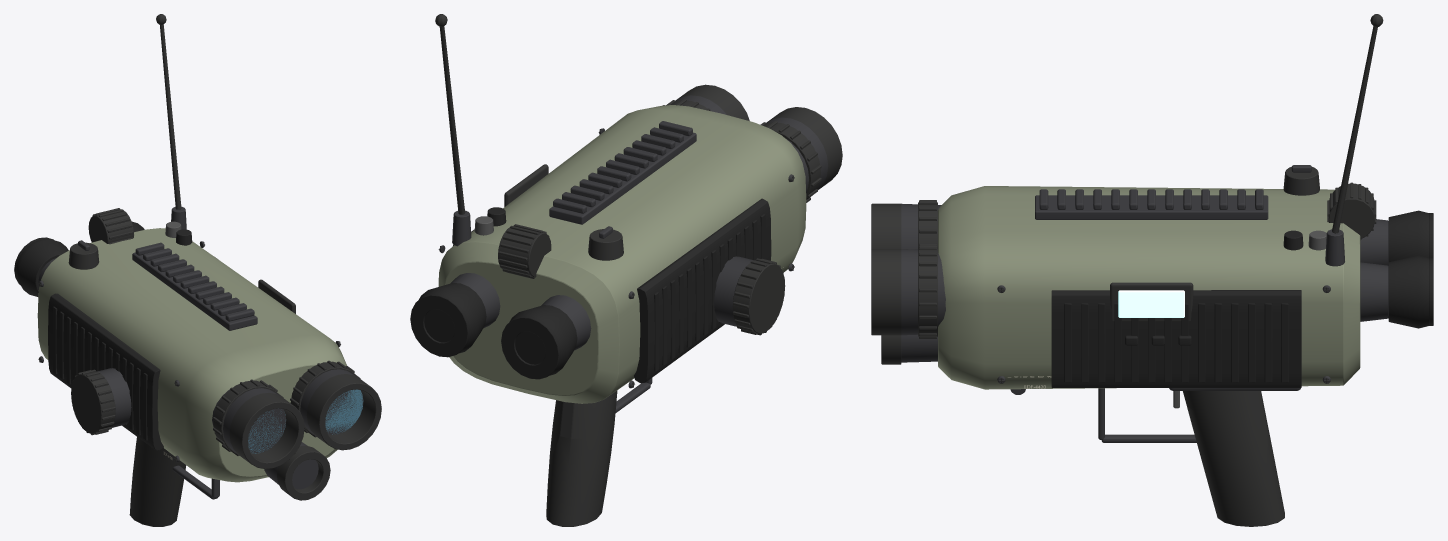
Rendered from designator.glb.
3 renders of one model, left to right at view 1: azimuth 30°, elevation 25°; view 2: azimuth 150°, elevation 25°; view 3: azimuth 270°, elevation 25°, orthographic. The views are drawn at different scales.
Parts seen in each view (by area): view 1: Body; view 2: Body; view 3: Body.
Boxes of the visible parts, x1,y1,x2,y2 form: Body: [14, 14, 381, 526]; Body: [410, 14, 842, 526]; Body: [871, 14, 1433, 526].
Size of the model in its own units: 0.1685 by 0.3549 by 0.337.
